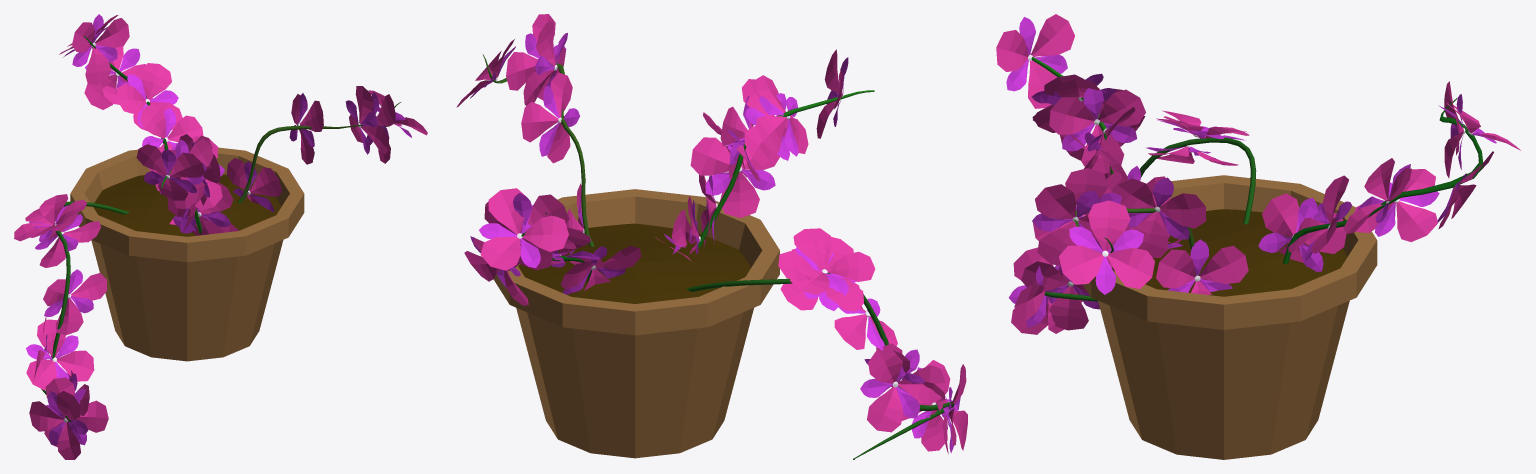
File: Flower1_backup.fbx
The picture shows the model from 3 angles, left to right: view 1: azimuth 30°, elevation 25°; view 2: azimuth 150°, elevation 25°; view 3: azimuth 270°, elevation 25°; orthographic projection. The views are drawn at different scales.
Visible parts, largest first — view 1: Cylinder, Circle, BézierCurve|Circle.008|Dupli|3, BézierCurve.002|Circle.008|Dupli|6, BézierCurve|Circle.008|Dupli|, BézierCurve.003|Circle.008|Dupli|, BézierCurve|Circle.008|Dupli|5, BézierCurve.002|Circle.008|Dupli|2, BézierCurve.002|Circle.008|Dupli|1, BézierCurve.001|Circle.008|Dupli|, BézierCurve.001|Circle.008|Dupli|2, BézierCurve.002|Circle.008|Dupli|4 (+13 smaller); view 2: Cylinder, Circle, BézierCurve|Circle.008|Dupli|4, BézierCurve.002|Circle.008|Dupli|5, BézierCurve.003|Circle.008|Dupli|5, BézierCurve.001|Circle.008|Dupli|1, BézierCurve|Circle.008|Dupli|7, BézierCurve.003|Circle.008|Dupli|2, BézierCurve|Circle.008|Dupli|8, BézierCurve.002|Circle.008|Dupli|, BézierCurve.002|Circle.008|Dupli|6, BézierCurve.001|Circle.008|Dupli|2 (+16 smaller); view 3: Cylinder, Circle, BézierCurve.001|Circle.008|Dupli|4, BézierCurve.003|Circle.008|Dupli|4, BézierCurve.003|Circle.008|Dupli|, BézierCurve.001|Circle.008|Dupli|1, BézierCurve.001|Circle.008|Dupli|, BézierCurve.002|Circle.008|Dupli|, BézierCurve.001|Circle.008|Dupli|3, BézierCurve.002|Circle.008|Dupli|3, BézierCurve|Circle.008|Dupli|2, BézierCurve.002|Circle.008|Dupli|2 (+16 smaller).
Part boxes in pixels (x1,y1,x2,y2): Cylinder: [70, 147, 304, 361]; Circle: [93, 174, 281, 236]; BézierCurve|Circle.008|Dupli|3: [26, 319, 94, 390]; BézierCurve.002|Circle.008|Dupli|6: [72, 14, 129, 84]; BézierCurve|Circle.008|Dupli|: [29, 391, 88, 459]; BézierCurve.003|Circle.008|Dupli|: [136, 144, 205, 200]; BézierCurve|Circle.008|Dupli|5: [43, 269, 106, 335]; BézierCurve.002|Circle.008|Dupli|2: [117, 63, 182, 129]; BézierCurve.002|Circle.008|Dupli|1: [140, 103, 203, 152]; BézierCurve.001|Circle.008|Dupli|: [226, 158, 281, 212]; BézierCurve.001|Circle.008|Dupli|2: [345, 86, 388, 154]; BézierCurve.002|Circle.008|Dupli|4: [84, 44, 145, 109]; Cylinder: [493, 189, 779, 458]; Circle: [518, 223, 751, 303]; BézierCurve|Circle.008|Dupli|4: [860, 343, 945, 432]; BézierCurve.002|Circle.008|Dupli|5: [479, 188, 568, 270]; BézierCurve.003|Circle.008|Dupli|5: [690, 137, 779, 217]; BézierCurve.001|Circle.008|Dupli|1: [521, 72, 579, 163]; BézierCurve|Circle.008|Dupli|7: [790, 228, 875, 295]; BézierCurve.003|Circle.008|Dupli|2: [756, 75, 808, 156]; BézierCurve|Circle.008|Dupli|8: [778, 237, 861, 304]; BézierCurve.002|Circle.008|Dupli|: [560, 246, 641, 294]; BézierCurve.002|Circle.008|Dupli|6: [484, 193, 569, 270]; BézierCurve.001|Circle.008|Dupli|2: [523, 20, 567, 105]; Cylinder: [1083, 175, 1377, 459]; Circle: [1111, 209, 1347, 296]; BézierCurve.001|Circle.008|Dupli|4: [1059, 200, 1154, 294]; BézierCurve.003|Circle.008|Dupli|4: [1049, 88, 1145, 173]; BézierCurve.003|Circle.008|Dupli|: [996, 14, 1074, 108]; BézierCurve.001|Circle.008|Dupli|1: [1114, 177, 1206, 257]; BézierCurve.001|Circle.008|Dupli|: [1156, 239, 1248, 294]; BézierCurve.002|Circle.008|Dupli|: [1258, 193, 1346, 271]; BézierCurve.001|Circle.008|Dupli|3: [1032, 184, 1115, 265]; BézierCurve.002|Circle.008|Dupli|3: [1354, 169, 1439, 242]; BézierCurve|Circle.008|Dupli|2: [1021, 261, 1099, 330]; BézierCurve.002|Circle.008|Dupli|2: [1343, 158, 1411, 234].
Size of the model in its own units: 4.34 by 3.1 by 3.88.
